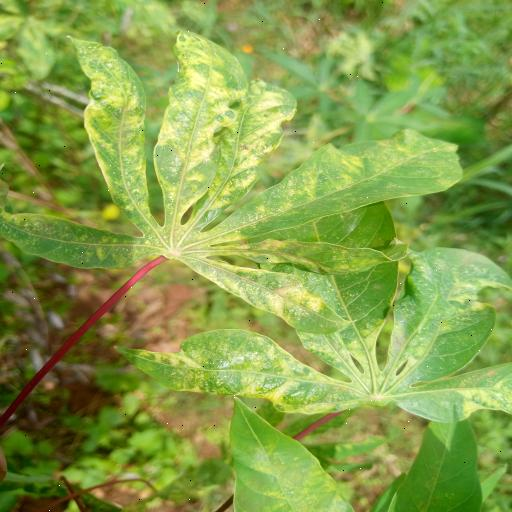Cassava_Mosaic: (5, 27, 467, 337), (117, 149, 512, 424)
